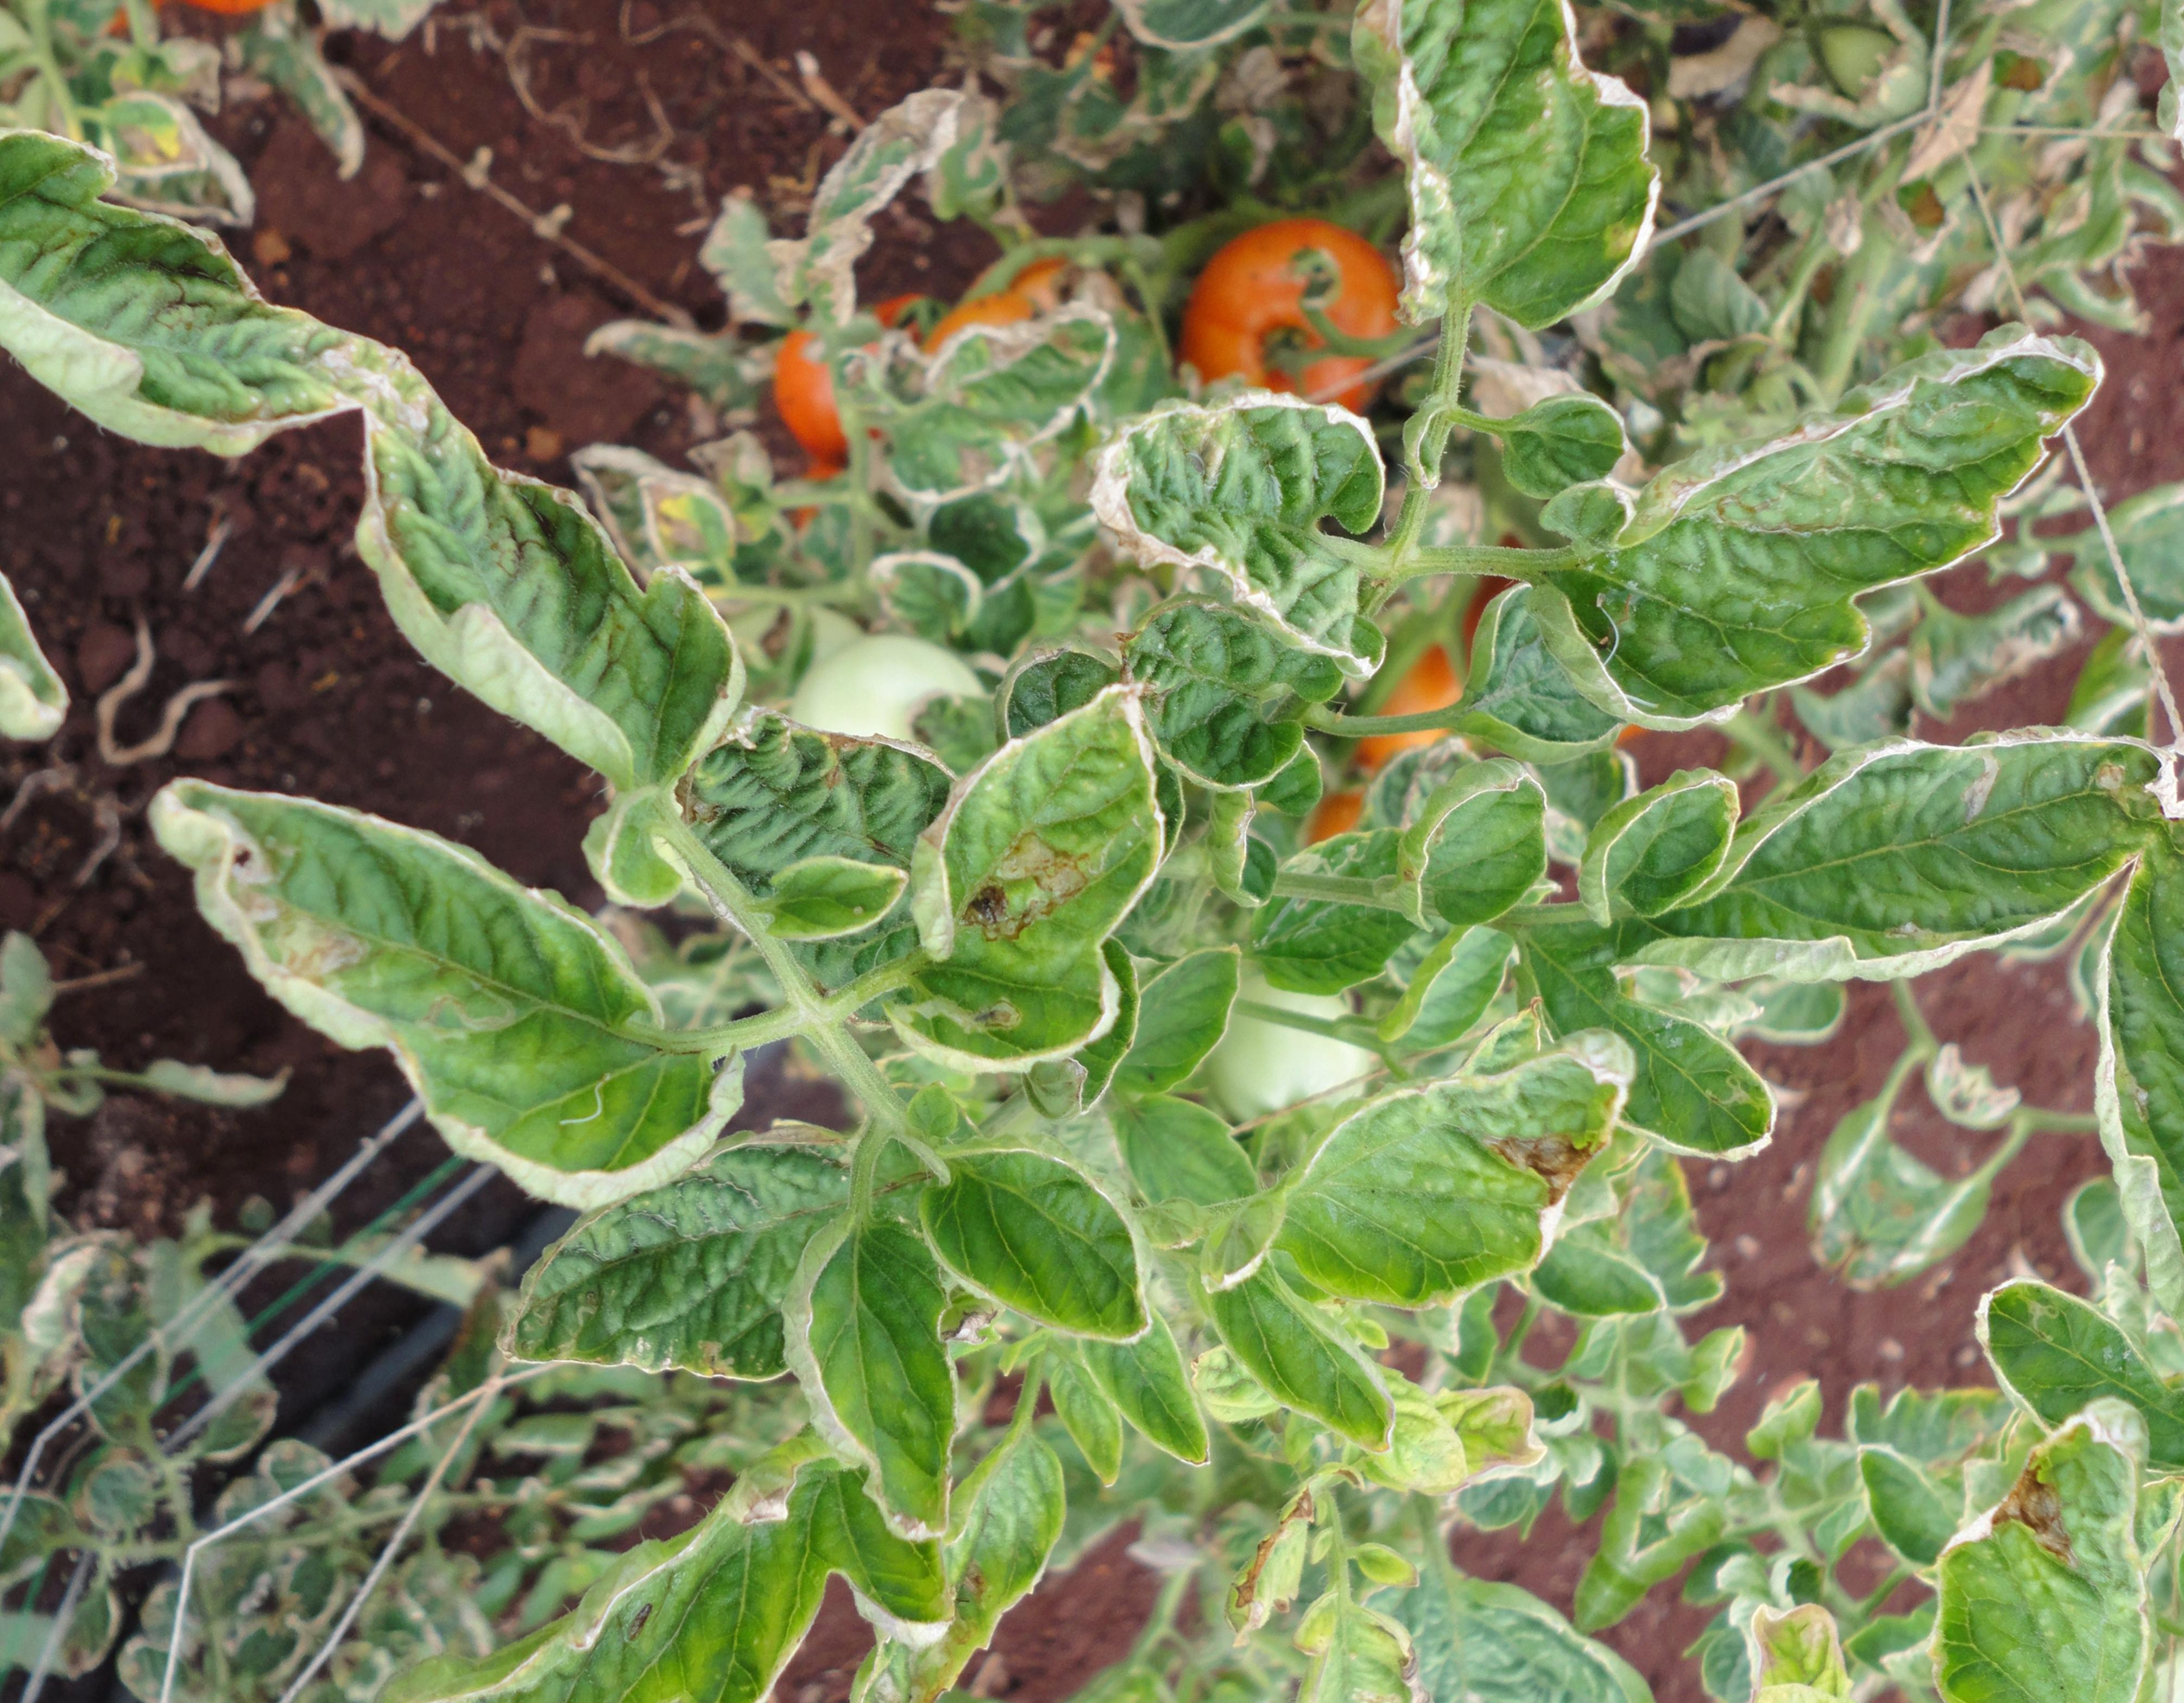Tomato leaf yellow virus: (1422, 455, 2184, 1285), (1509, 140, 2163, 872), (89, 672, 799, 1303), (200, 282, 879, 939), (1092, 867, 1714, 1531), (817, 626, 1347, 1178), (950, 207, 1512, 725), (349, 1281, 1032, 1703), (1150, 0, 1799, 408), (670, 1200, 1087, 1627), (846, 1085, 1225, 1457)
